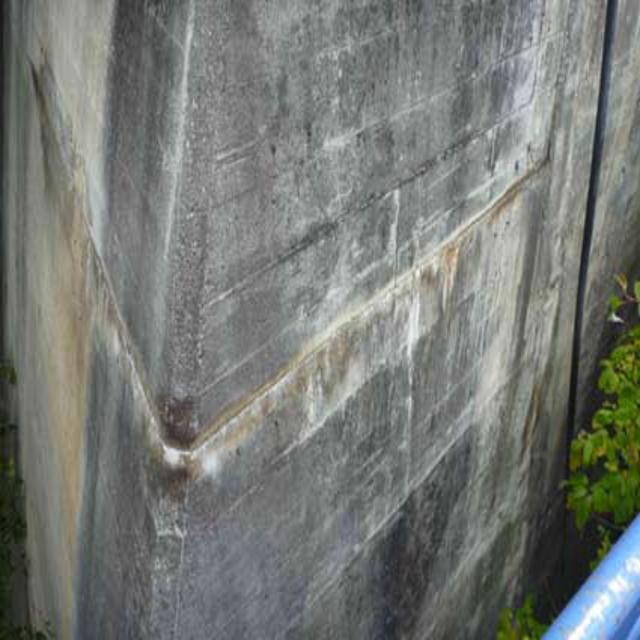freelime: (136, 394, 251, 490)
